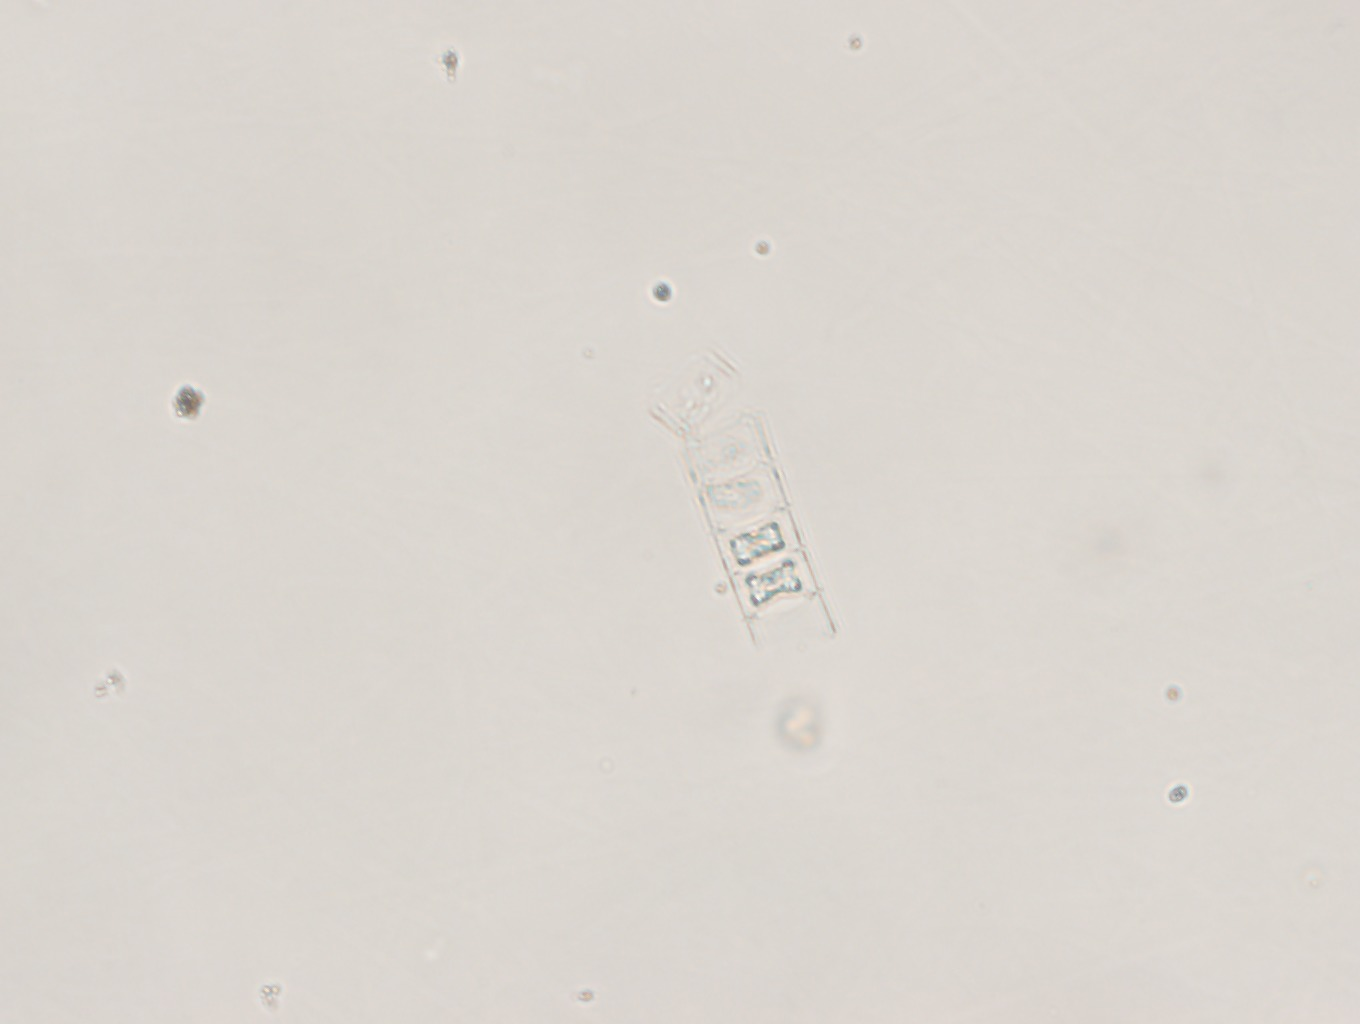chaetoceros: (626, 345, 850, 660)
